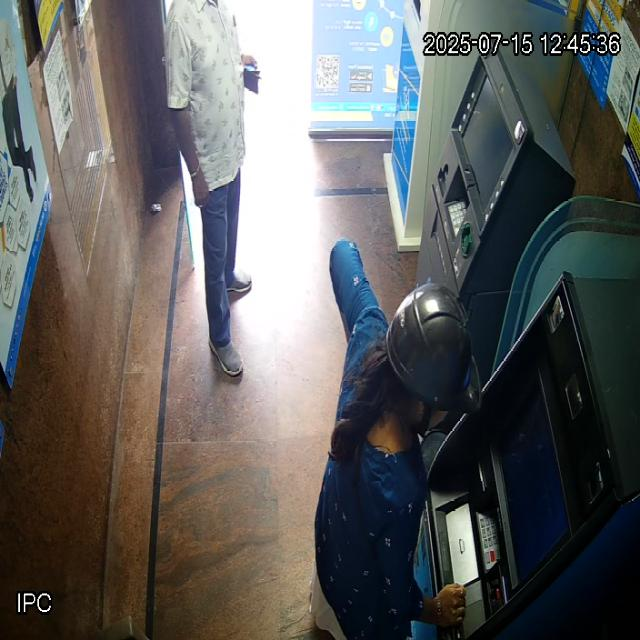helmet: (387, 283, 484, 434)
